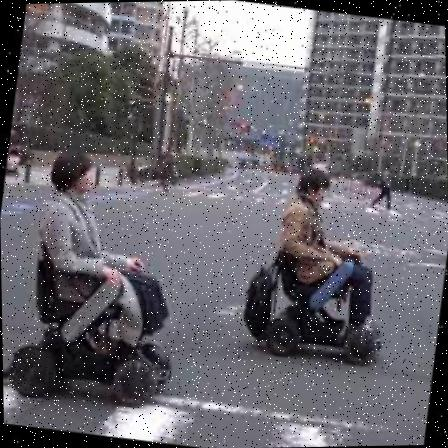wheel: (0, 141, 200, 416), (257, 160, 405, 368)
